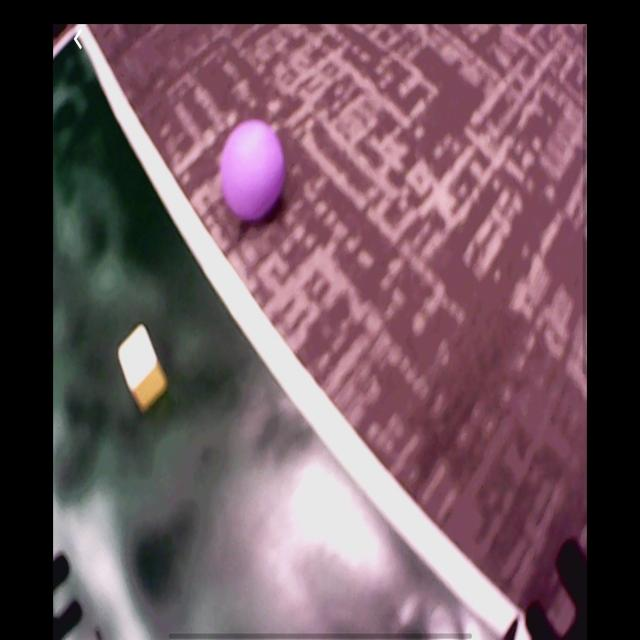ball: (221, 123, 285, 220)
